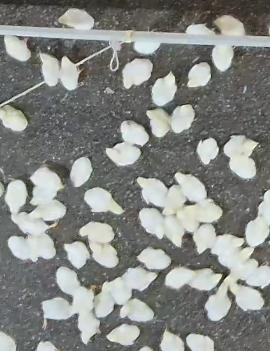chick: (83, 185, 123, 216), (8, 210, 57, 234), (205, 276, 231, 320), (39, 297, 77, 327), (231, 279, 264, 312), (26, 200, 67, 226), (118, 296, 156, 324), (138, 206, 166, 242), (136, 176, 168, 207), (174, 173, 207, 203), (122, 57, 153, 88), (225, 258, 259, 286), (58, 7, 96, 32), (3, 177, 27, 216), (4, 233, 34, 264), (28, 230, 56, 263), (151, 71, 177, 106), (76, 219, 115, 242), (145, 106, 173, 138), (123, 265, 157, 291), (210, 233, 248, 256), (101, 277, 132, 305), (106, 322, 142, 346), (183, 202, 224, 223), (58, 56, 83, 90), (3, 34, 33, 62), (136, 247, 171, 271), (29, 168, 65, 191), (214, 14, 247, 39), (245, 212, 269, 246), (106, 143, 143, 165), (222, 134, 259, 156), (55, 266, 83, 295), (187, 268, 222, 291), (162, 183, 187, 215), (0, 103, 27, 132), (210, 41, 235, 72), (77, 312, 102, 343), (89, 241, 120, 266), (192, 222, 216, 254), (63, 240, 90, 268), (218, 246, 254, 267), (168, 103, 194, 132), (39, 53, 61, 87), (165, 267, 196, 291), (69, 156, 92, 188), (131, 36, 165, 57), (121, 119, 148, 145), (230, 152, 256, 179), (176, 207, 203, 233), (92, 289, 115, 319), (187, 62, 212, 87), (29, 184, 58, 205), (164, 217, 184, 247), (198, 136, 218, 165), (160, 329, 186, 351), (72, 286, 94, 310), (245, 265, 270, 286), (186, 333, 215, 351), (184, 22, 214, 37), (0, 332, 18, 351), (258, 192, 270, 219), (35, 341, 59, 351)
